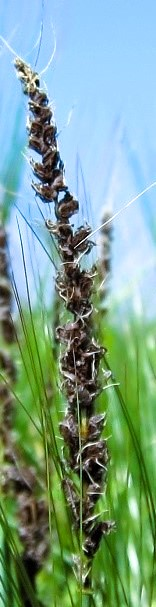Wheat Loose Smut: (10, 61, 122, 296)
